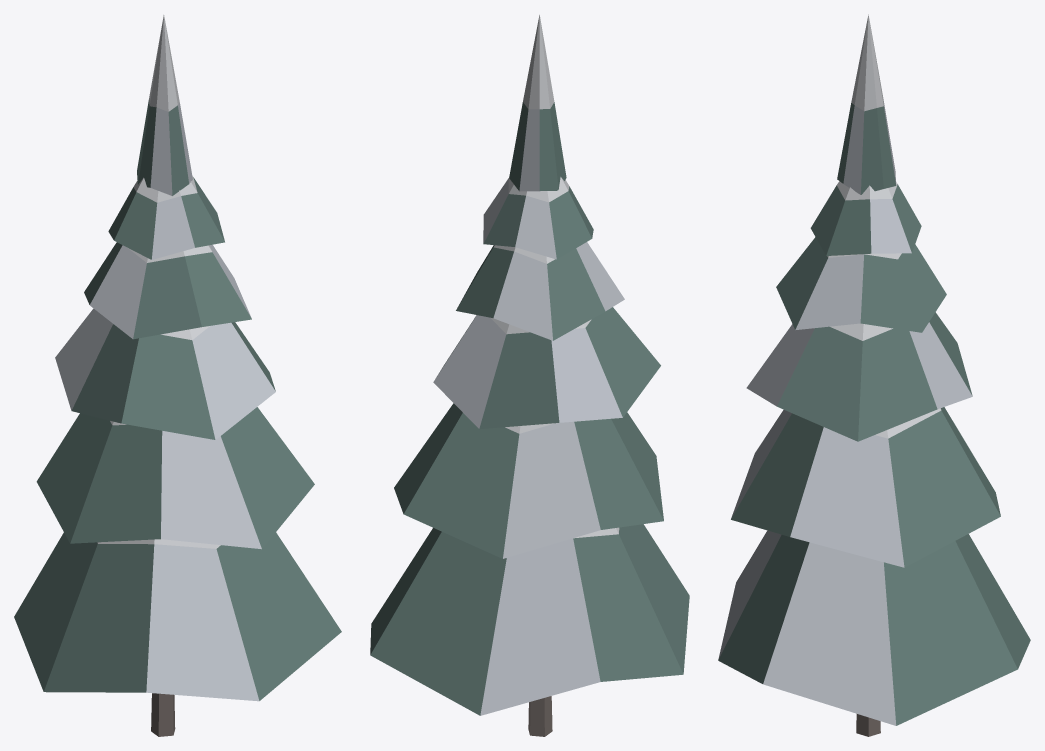
File: kuusi_4.glb
3 renders of one model, left to right at view 1: azimuth 30°, elevation 25°; view 2: azimuth 150°, elevation 25°; view 3: azimuth 270°, elevation 25°, orthographic.
Parts seen in each view (by area): view 1: kuusi_4; view 2: kuusi_4; view 3: kuusi_4.
Part boxes in pixels (<box>): kuusi_4: <box>14,15,341,736</box>; kuusi_4: <box>370,15,689,736</box>; kuusi_4: <box>718,14,1030,736</box>.
Size of the model in its own units: 6.68 by 16 by 6.32.
